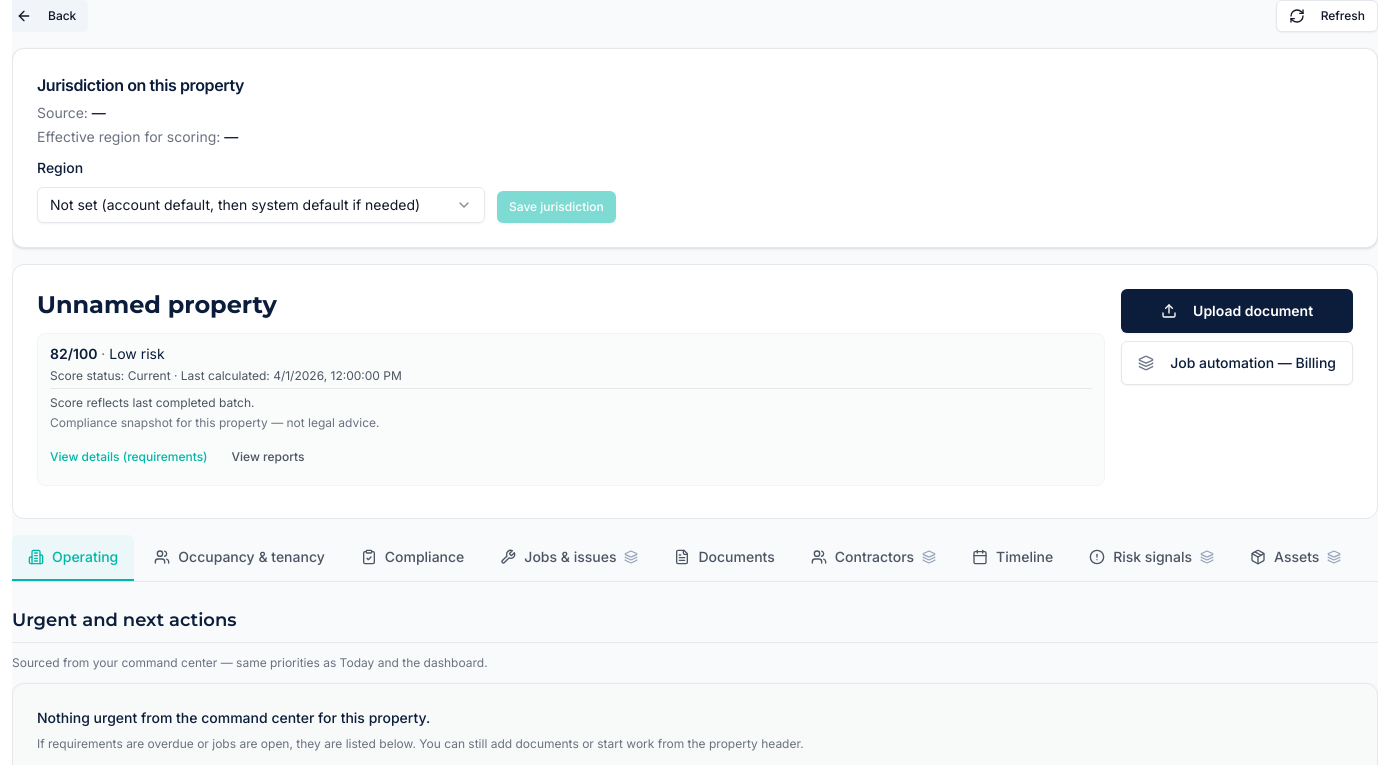
Test: PropertyDetailPage async honesty (stored vs preview) › shows stored-vs-preview note, score_status_message, and last_calculated on Compliance tab when explainability loads
The image size is (1390, 765).
Click the button "Compliance" at (413,558), box [345,535,480,581]
(page scrolled)
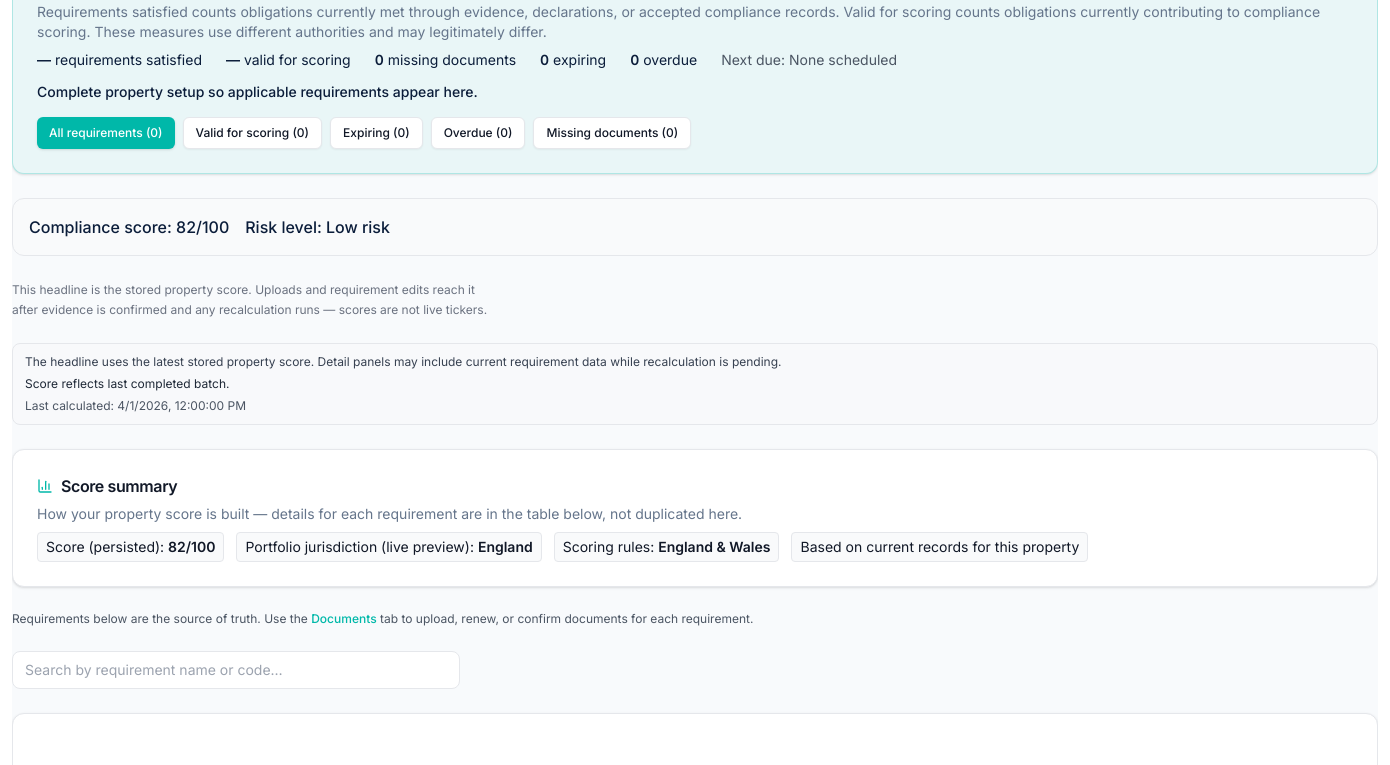
expect the element with test id "property-compliance-stored-vs-preview-note" shows "The headline uses the latest stored property score. Detail panels may include current requirement data while recalculation is pending.": met, box [25,354,782,369]
expect the element with test id "property-compliance-stored-vs-preview-note" shows "Score reflects last completed batch.": met, box [25,376,230,391]
expect the element with test id "property-compliance-stored-vs-preview-note" shows "Last calculated:": met, box [25,398,117,413]
